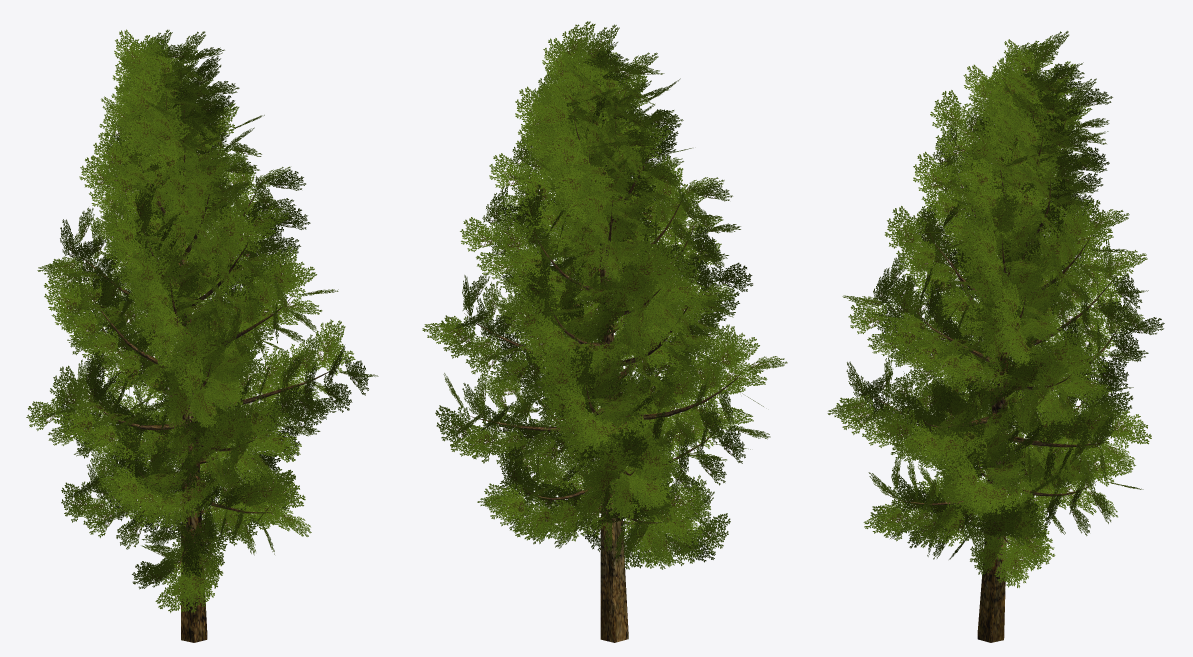
Rendered from TRY 1.obj.
The picture shows the model from 3 angles, left to right: view 1: azimuth 30°, elevation 25°; view 2: azimuth 150°, elevation 25°; view 3: azimuth 270°, elevation 25°; orthographic projection. The views are drawn at different scales.
Visible parts, largest first — view 1: leaves, tree; view 2: leaves, tree; view 3: leaves, tree.
Part boxes in pixels (box(x1,y1,x2,y2)): leaves: box(26, 29, 378, 612); tree: box(79, 81, 342, 642); leaves: box(422, 21, 787, 569); tree: box(464, 66, 745, 642); leaves: box(827, 31, 1164, 587); tree: box(870, 68, 1122, 642).
Bounding box in the file's own units: 10.35 × 18.67 × 10.06.
2 materials, 2 textured.
